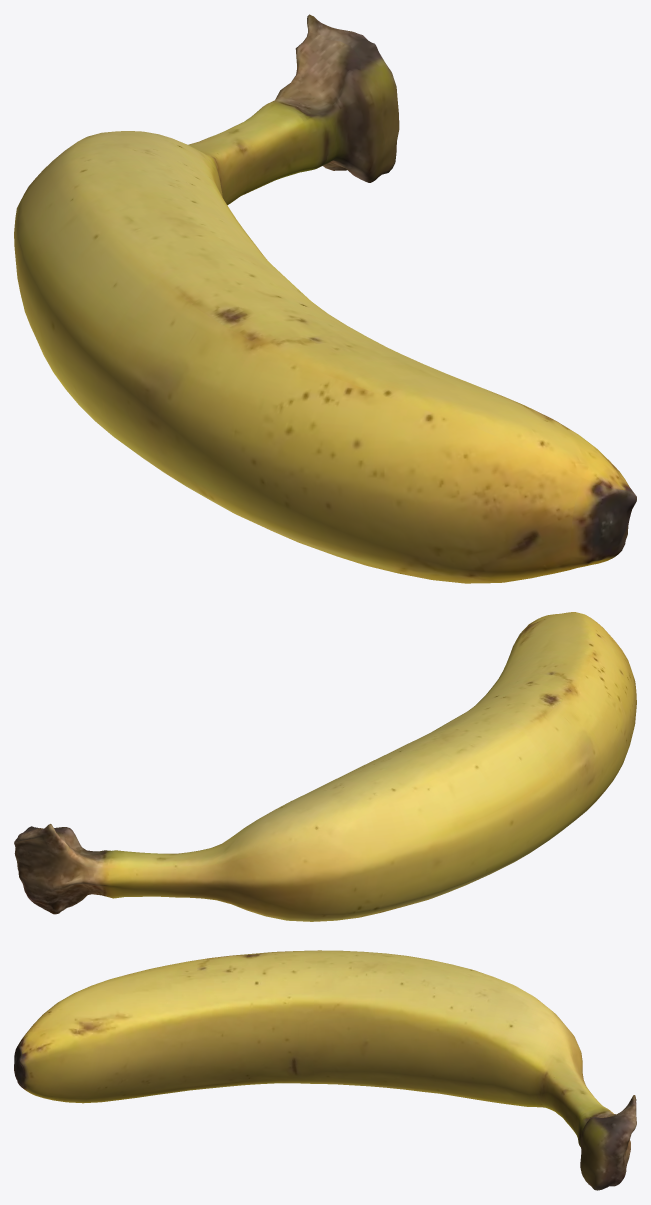
File: banana.glb
The picture shows the model from 3 angles, top to bottom: view 1: azimuth 30°, elevation 25°; view 2: azimuth 150°, elevation 25°; view 3: azimuth 270°, elevation 25°; orthographic projection. The views are drawn at different scales.
Parts seen in each view (by area): view 1: bananas_d; view 2: bananas_d; view 3: bananas_d.
Boxes of the visible parts, left/top/right/bottom form: bananas_d: left=14, top=14, right=636, bottom=583; bananas_d: left=14, top=612, right=636, bottom=921; bananas_d: left=14, top=950, right=636, bottom=1190.
Size of the model in its own units: 0.1296 by 0.0454 by 0.2229.
Materials: 1 (1 with a texture image).
